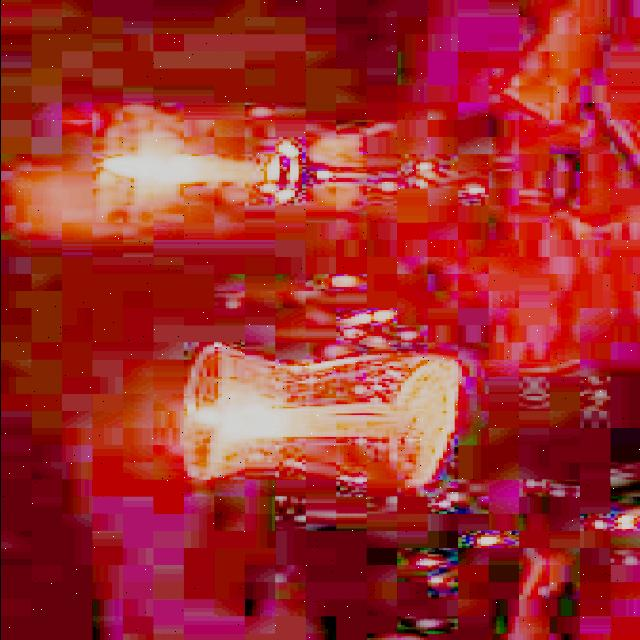api: (89, 151, 169, 185), (184, 402, 252, 438)
